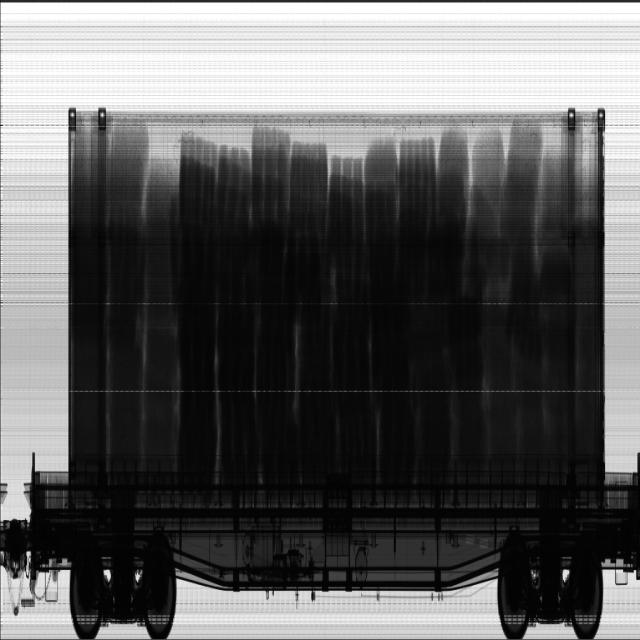clothes: (62, 118, 520, 457)
